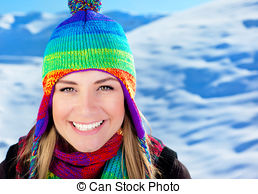face: (51, 59, 125, 155)
